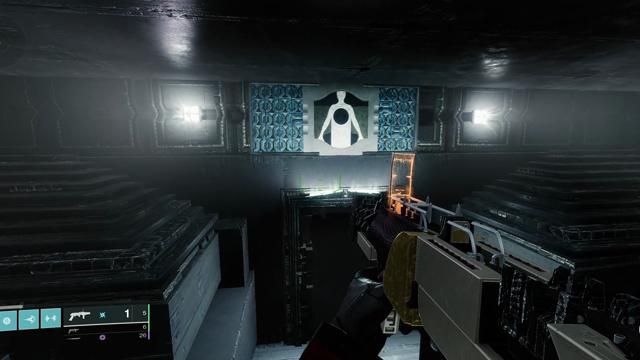grief: (314, 90, 369, 148)
